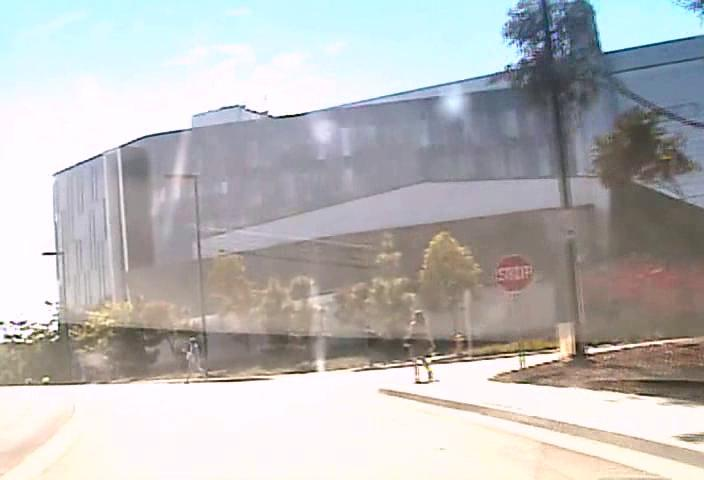stop: (494, 253, 534, 292)
